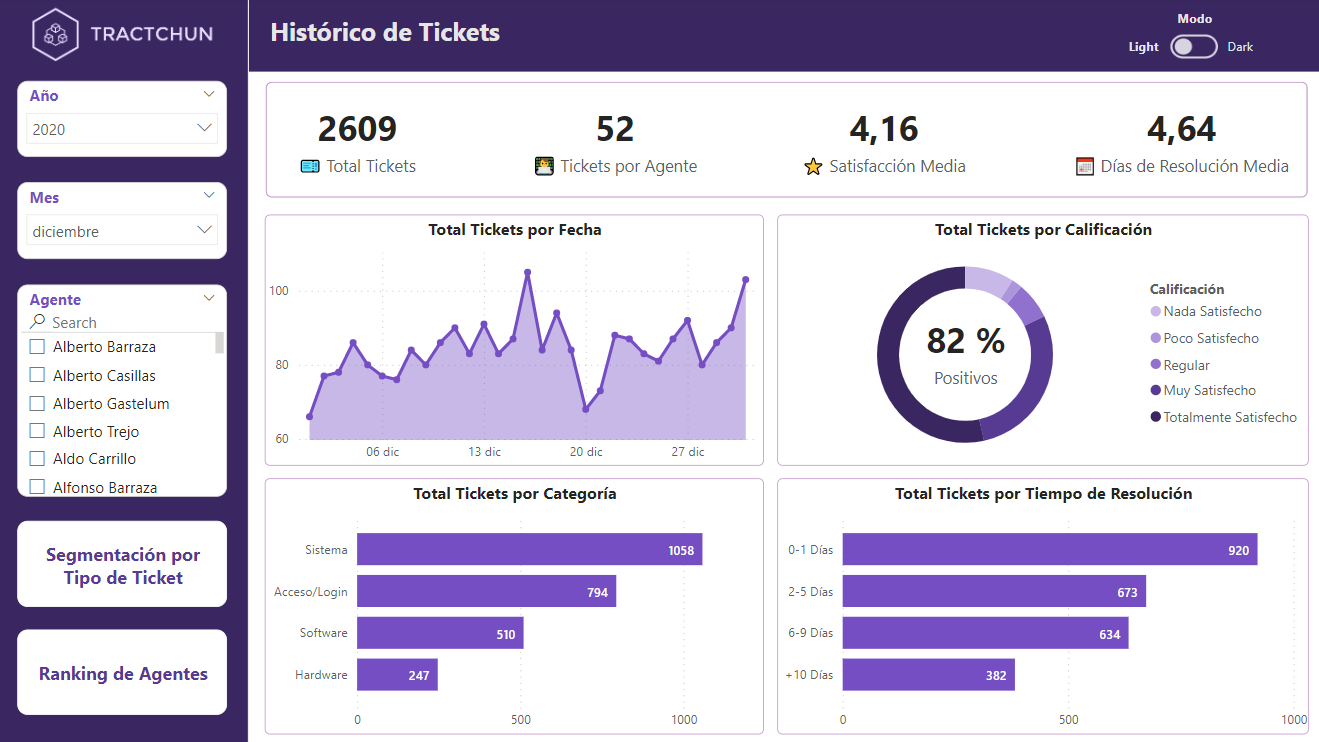

What the dashboard file says about the page in this screenshot:
{"tool":"powerbi","page":{"name":"Page 1","canvas":[1280,720],"ordinal":0},"visuals":[{"type":"shape","box":[243.6,0,1036,72.4],"z":0},{"type":"shape","box":[259.3,80.8,1007,113.4],"z":1000},{"type":"shape","box":[0,0,243.6,720],"z":2000},{"type":"card","fields":{"Values":["DAX Measure.Total Tickets"]},"box":[265.3,89.2,166.4,95.3],"z":3000},{"type":"slicer","fields":{"Values":["d_Calendario.Year"]},"box":[20.5,80.8,202.6,73.6],"z":4000},{"type":"card","fields":{"Values":["DAX Measure.Avg Satisfacción"]},"box":[769.4,89.2,174.9,95.3],"z":5000},{"type":"card","fields":{"Values":["DAX Measure.Tickets por Agente"]},"box":[504.1,89.2,186.9,95.3],"z":6000},{"type":"slicer","fields":{"Values":["d_Calendario.Mes"]},"box":[20.5,178.5,202.6,74.8],"z":7000},{"type":"image","box":[0,0,243.6,72.4],"z":8000},{"type":"slicer","fields":{"Values":["d_Agentes.Nombre"]},"box":[20.5,277.4,202.6,205],"z":9000},{"type":"textbox","box":[259.3,12.1,338.9,47],"z":10000},{"type":"card","fields":{"Values":["DAX Measure.Avg Resolución"]},"box":[1029.9,89.2,227.9,95.3],"z":11000},{"type":"areaChart","title":"Total Tickets por Fecha","fields":{"Y":["DAX Measure.Total Tickets"],"Category":["d_Calendario.Fecha"]},"box":[259.3,209.8,481.2,242.4],"z":12000},{"type":"donutChart","title":"Total Tickets por Calificación","fields":{"Y":["DAX Measure.Total Tickets"],"Category":["d_Satisfacción.Grupo"]},"box":[753.8,209.8,512.6,242.4],"z":13000},{"type":"barChart","title":"Total Tickets por Categoría","fields":{"Y":["DAX Measure.Total Tickets"],"Category":["f_Tickets.Categoría"]},"box":[259.3,464.3,481.2,247.2],"z":14000},{"type":"barChart","title":"Total Tickets por Tiempo de Resolución","fields":{"Y":["DAX Measure.Total Tickets"],"Category":["d_Resolución.Grupo"]},"box":[753.8,464.3,512.6,247.2],"z":15000},{"type":"card","fields":{"Values":["DAX Measure.% Positivos"]},"box":[885.2,303.9,101.3,76],"z":16000}]}

Visuals, with their boxes in screenshot pixels (x1, y1, x2, y2), scaled from the page's 1280x720 canvas onto the 1319x742 screenshot:
shape: crop(251, 0, 1318, 75)
shape: crop(267, 83, 1305, 200)
shape: crop(0, 0, 251, 741)
card - DAX Measure.Total Tickets: crop(273, 92, 445, 190)
slicer - d_Calendario.Year: crop(21, 83, 230, 159)
card - DAX Measure.Avg Satisfacción: crop(793, 92, 973, 190)
card - DAX Measure.Tickets por Agente: crop(519, 92, 712, 190)
slicer - d_Calendario.Mes: crop(21, 184, 230, 261)
image: crop(0, 0, 251, 75)
slicer - d_Agentes.Nombre: crop(21, 286, 230, 497)
textbox: crop(267, 12, 616, 61)
card - DAX Measure.Avg Resolución: crop(1061, 92, 1296, 190)
"Total Tickets por Fecha" areaChart: crop(267, 216, 763, 466)
"Total Tickets por Calificación" donutChart: crop(777, 216, 1305, 466)
"Total Tickets por Categoría" barChart: crop(267, 478, 763, 733)
"Total Tickets por Tiempo de Resolución" barChart: crop(777, 478, 1305, 733)
card - DAX Measure.% Positivos: crop(912, 313, 1017, 392)
